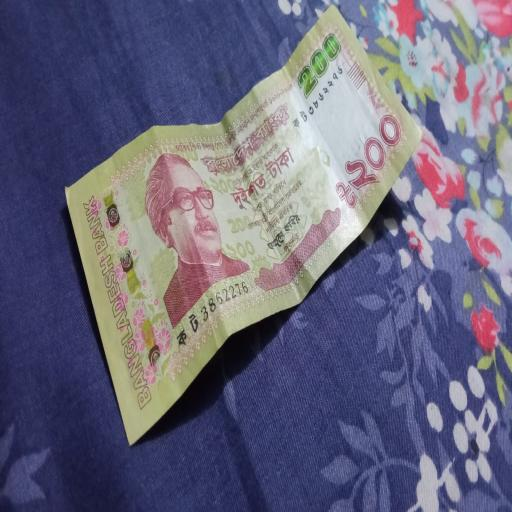200taka: (66, 4, 422, 449)
